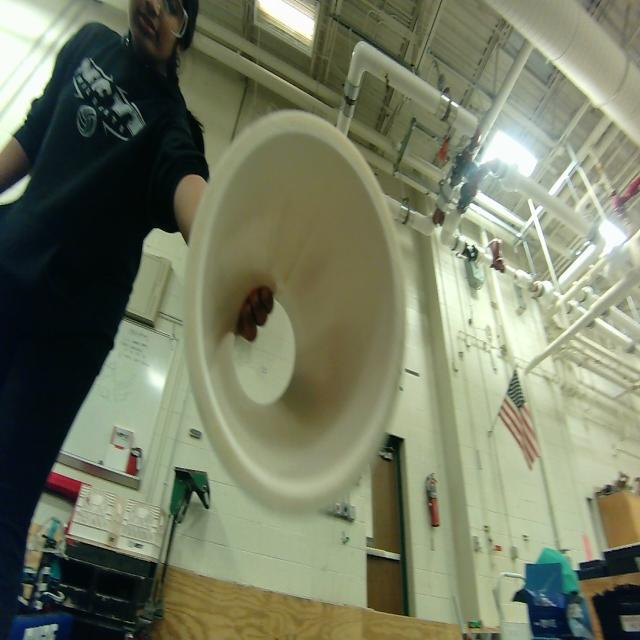coral: (184, 110, 406, 513)
